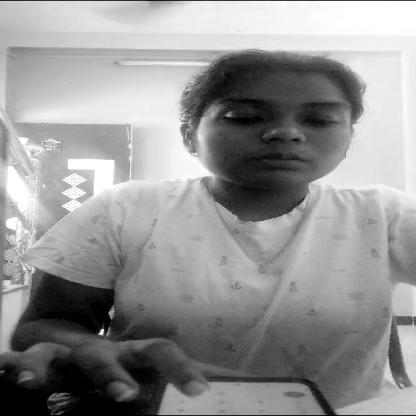Normal: (166, 50, 370, 186)
